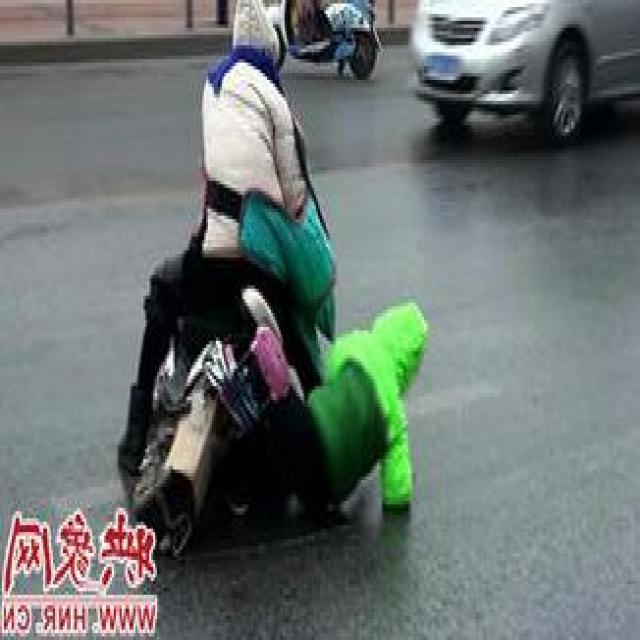fall: (240, 296, 436, 540)
